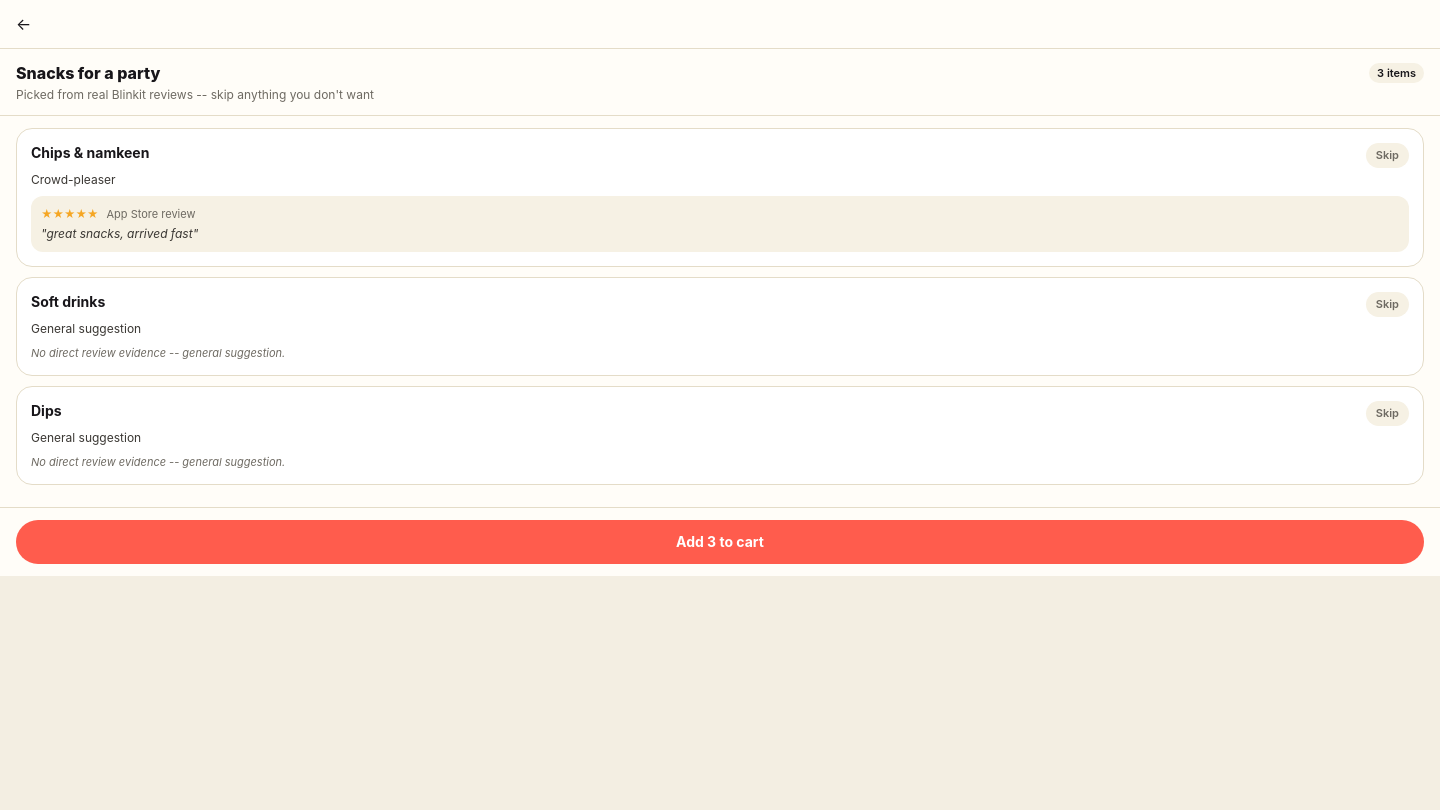
Test: Result screen skip/undo -- regression coverage for the flow verified manually during QA review › re-enables the cart button when a skipped item is added back
This screenshot has width=1440, height=810.
Click the button "Skip" in the row of "Chips & namkeen". click: {"x": 1387, "y": 155}
box: 1366,143 -> 1409,168
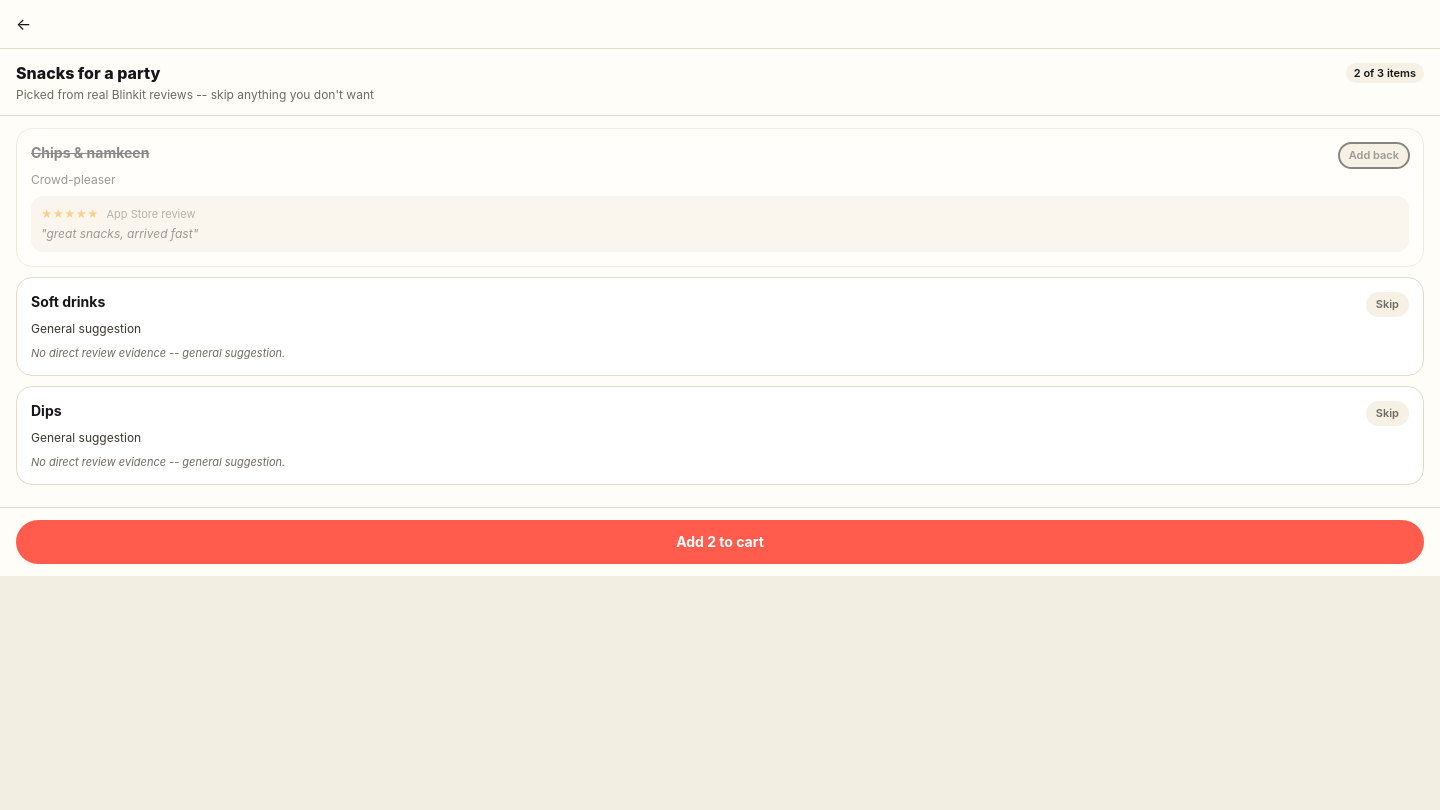
Click the button "Skip" in the row of "Soft drinks". click: {"x": 1387, "y": 304}
box: 1366,292 -> 1409,316
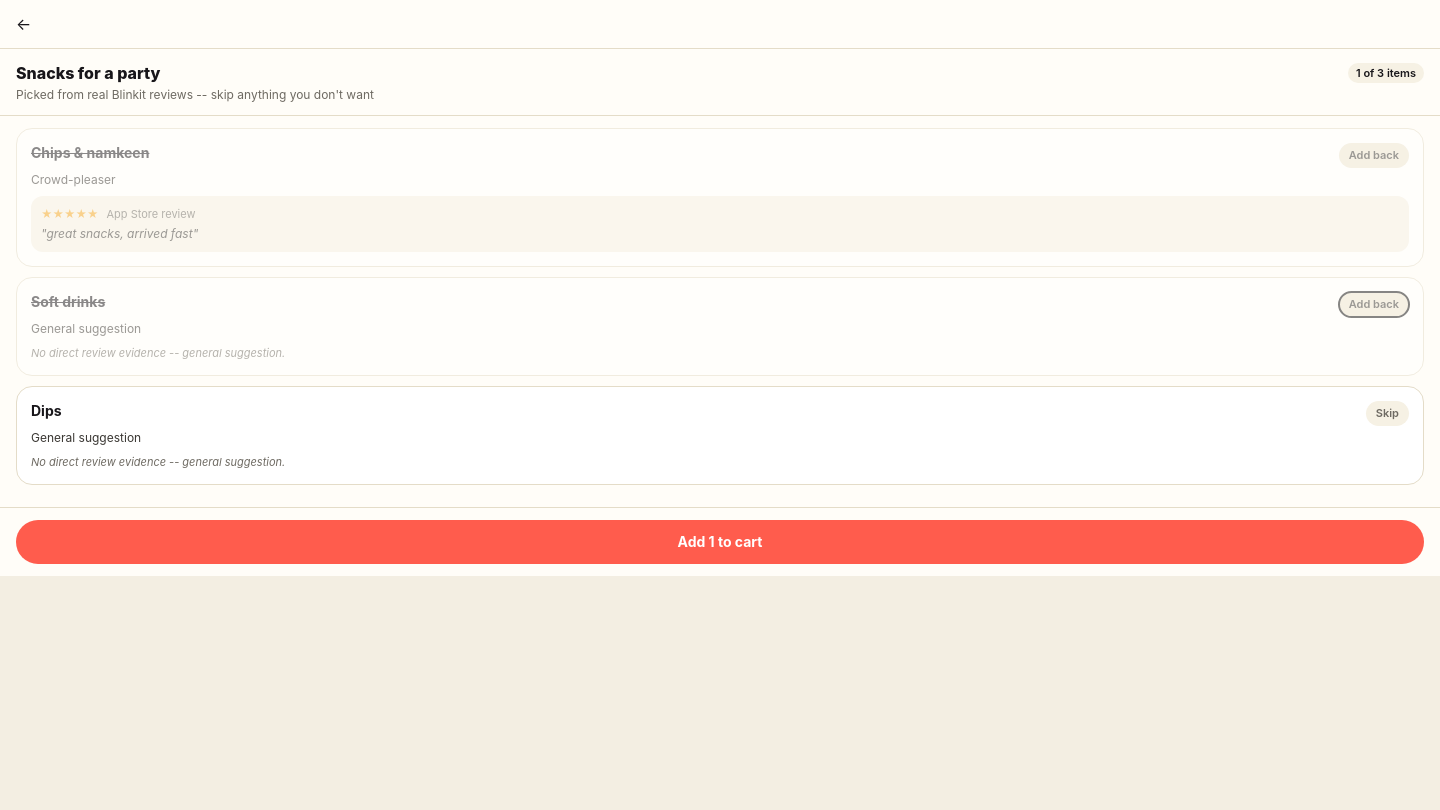
Click the button "Skip". click: {"x": 1387, "y": 413}
box: 1366,401 -> 1409,426
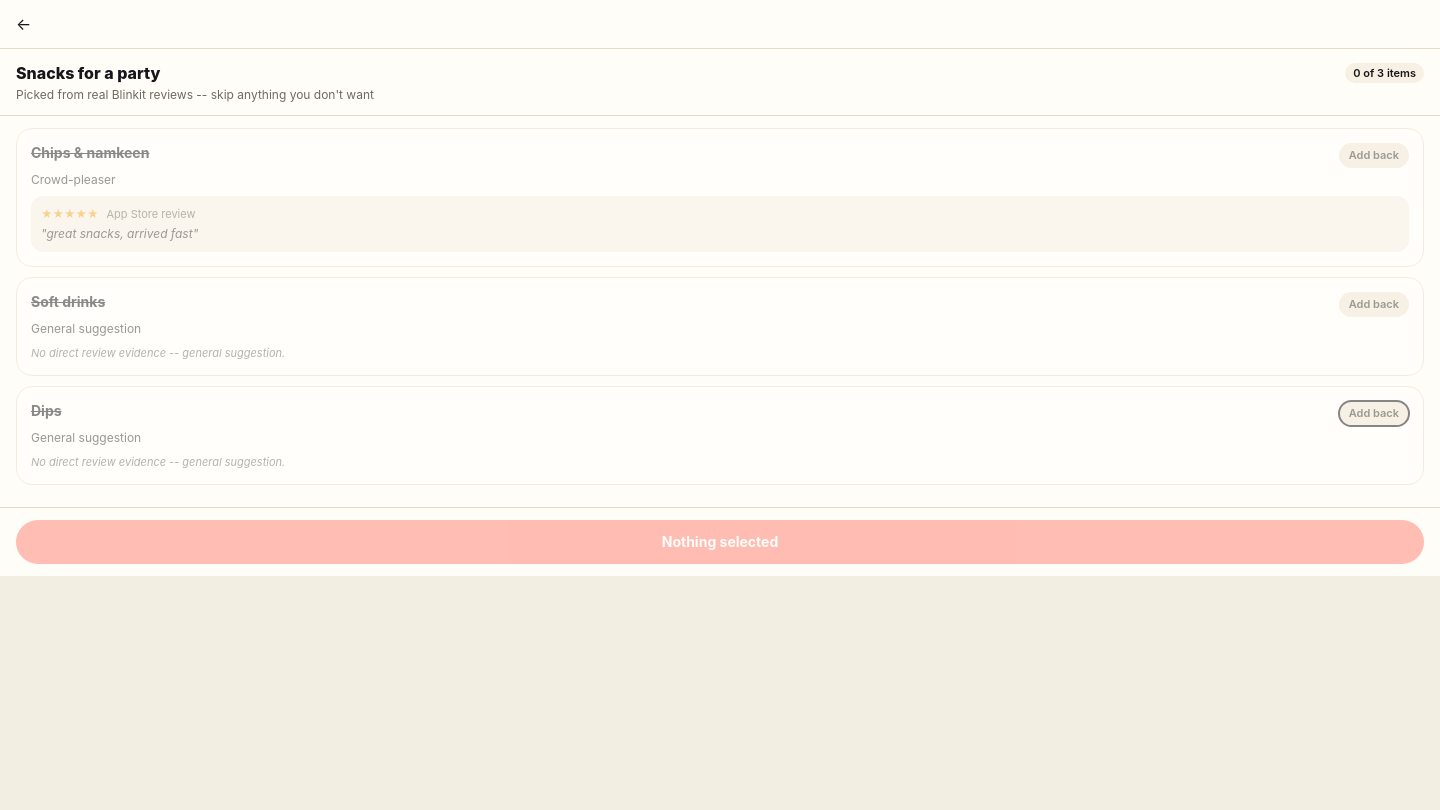
Click the button "Add back" in the row of "Chips & namkeen". click: {"x": 1374, "y": 155}
box: 1339,143 -> 1409,168
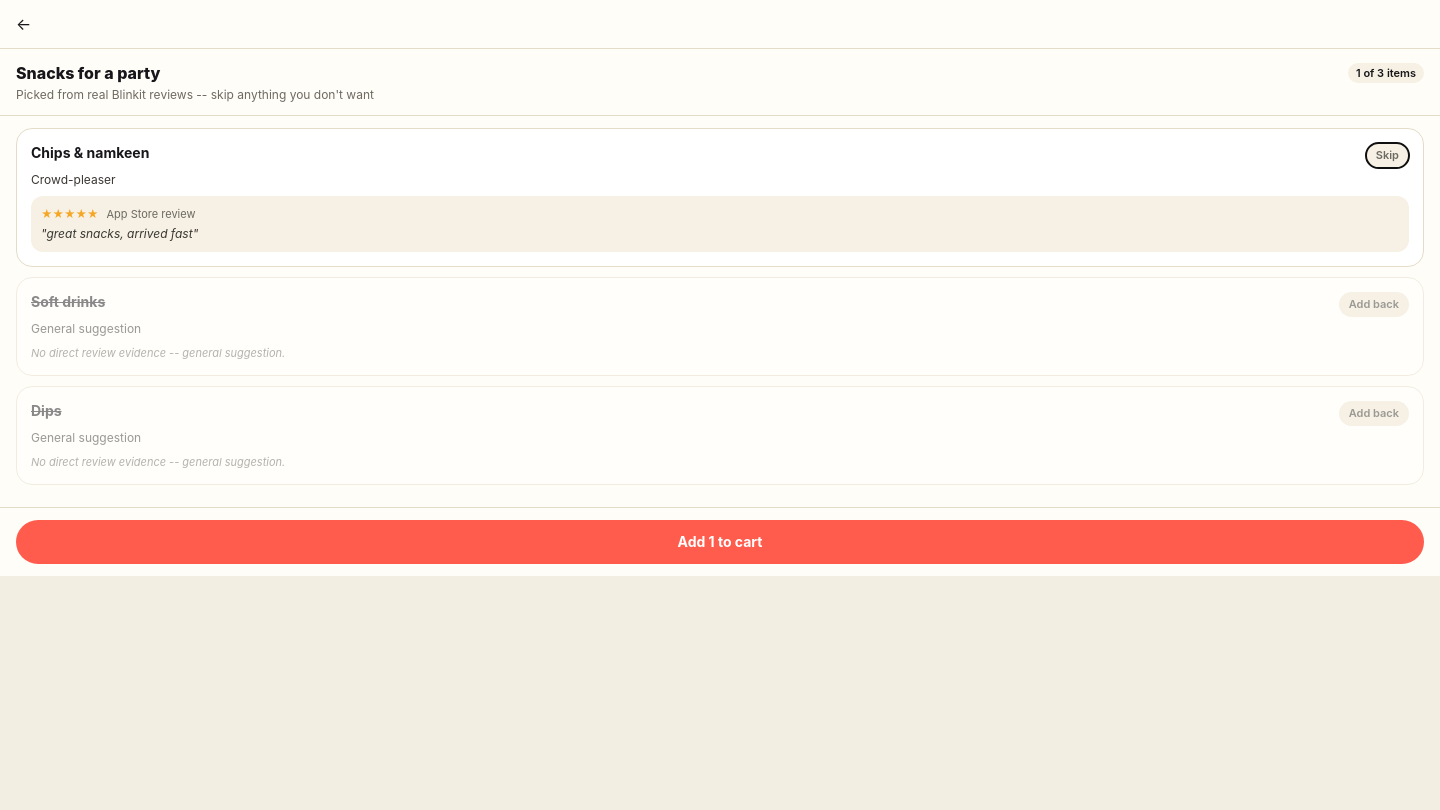
Result: the button "Add 1 to cart" is enabled at 16,520 -> 1424,564
